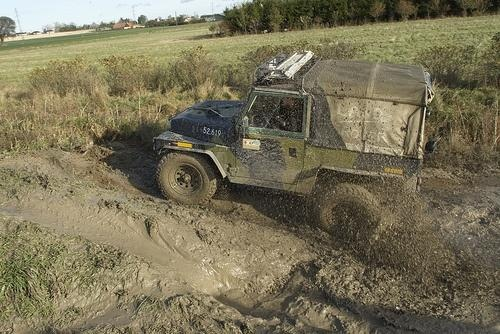car: (154, 46, 440, 247)
